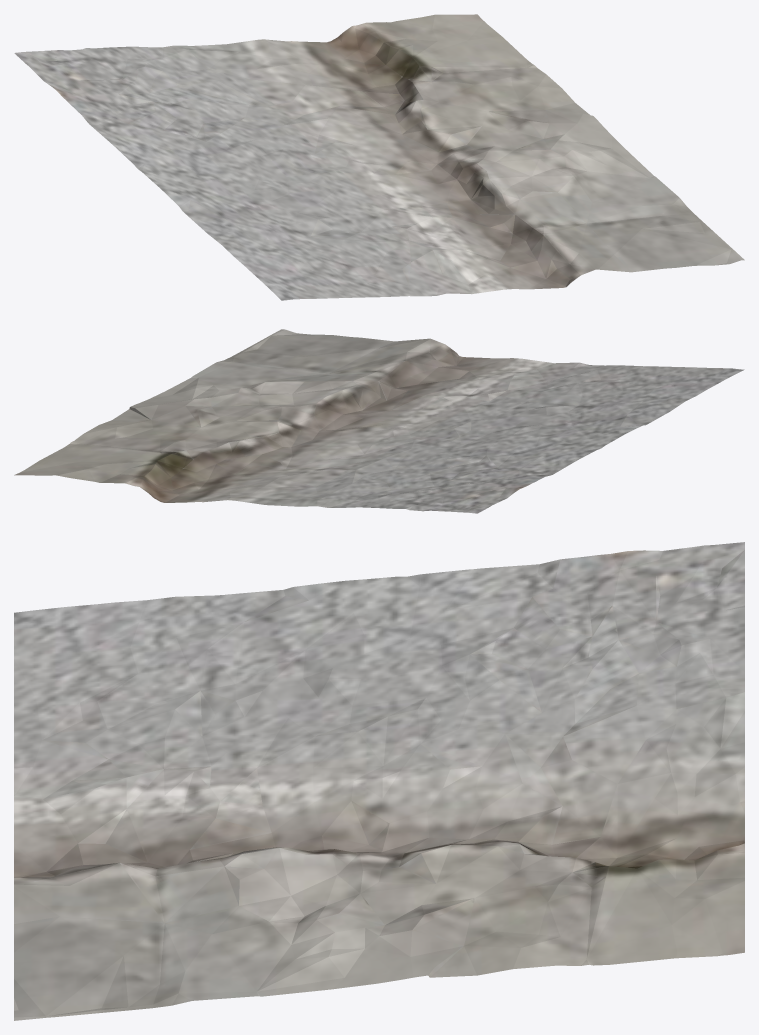
3 renders of one model, top to bottom at view 1: azimuth 30°, elevation 25°; view 2: azimuth 150°, elevation 25°; view 3: azimuth 270°, elevation 25°, orthographic. The views are drawn at different scales.
Size of the model in its own units: 1.67 by 0.4309 by 1.67.
Materials: 2 (2 with a texture image).
